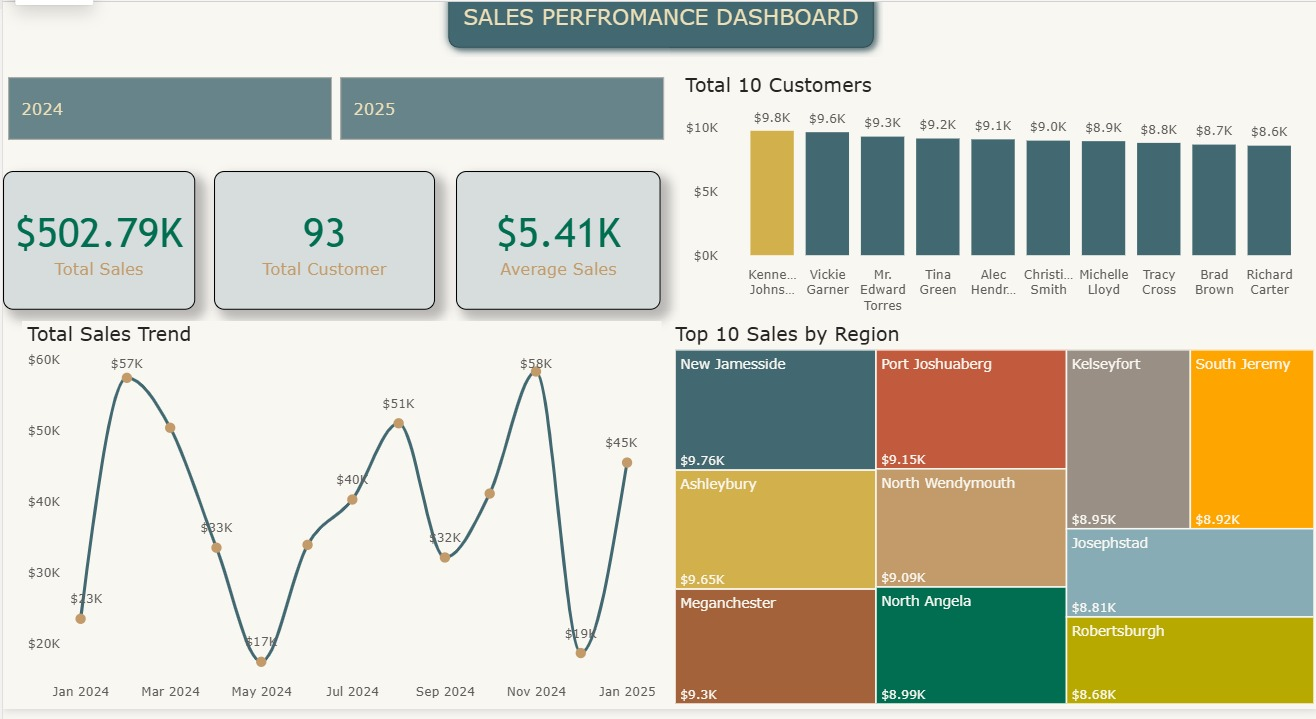

The page's visual inventory and layout, read from the dashboard file:
{"tool":"powerbi","page":{"name":"Page 1","canvas":[1280,720],"ordinal":0},"visuals":[{"type":"shape","box":[424.1,12.6,431.9,72.9],"z":0},{"type":"textbox","box":[431.9,28.2,416.3,41.8],"z":1000},{"type":"card","fields":{"Values":["Fact Sales.Total Sales"]},"box":[0,196.5,186.7,135.2],"z":2000},{"type":"card","fields":{"Values":["Fact Sales.Total Customer"]},"box":[205.2,196.5,215,135.2],"z":3000},{"type":"card","fields":{"Values":["Fact Sales.Average Sales"]},"box":[440.6,196.5,199.4,135.2],"z":4000},{"type":"lineChart","title":"Total Sales Trend","fields":{"Category":["Dim Date.OrderDate.Variation.Date Hierarchy.Year","Dim Date.OrderDate.Variation.Date Hierarchy.Month"],"Y":["Fact Sales.Total Sales"]},"box":[18.5,342.4,621.5,377.4],"z":5000},{"type":"treemap","title":"Top 10 Sales by Region","fields":{"Group":["Dim Region.Region"],"Values":["Fact Sales.Total Sales"]},"box":[648.8,342.4,631.2,377.4],"z":6000},{"type":"columnChart","title":"Total 10 Customers","fields":{"Category":["Dim Customer.CustomerName"],"Y":["Fact Sales.Total Sales"]},"box":[658.5,100.2,621.5,242.2],"z":7000},{"type":"advancedSlicerVisual","fields":{"Values":["Dim Date.OrderDate.Variation.Date Hierarchy.Year"]},"box":[0,100.2,648.8,71],"z":7001}]}

Visuals, with their boxes in screenshot pixels (x1, y1, x2, y2), scaled from the page's 1280x720 canvas onto the 1316x719 screenshot:
shape: 436/13/880/85
textbox: 444/28/872/70
card - Fact Sales.Total Sales: 0/196/192/331
card - Fact Sales.Total Customer: 211/196/432/331
card - Fact Sales.Average Sales: 453/196/658/331
"Total Sales Trend" lineChart: 19/342/658/718
"Top 10 Sales by Region" treemap: 667/342/1315/718
"Total 10 Customers" columnChart: 677/100/1315/342
advancedSlicerVisual - Dim Date.OrderDate.Variation.Date Hierarchy.Year: 0/100/667/171
